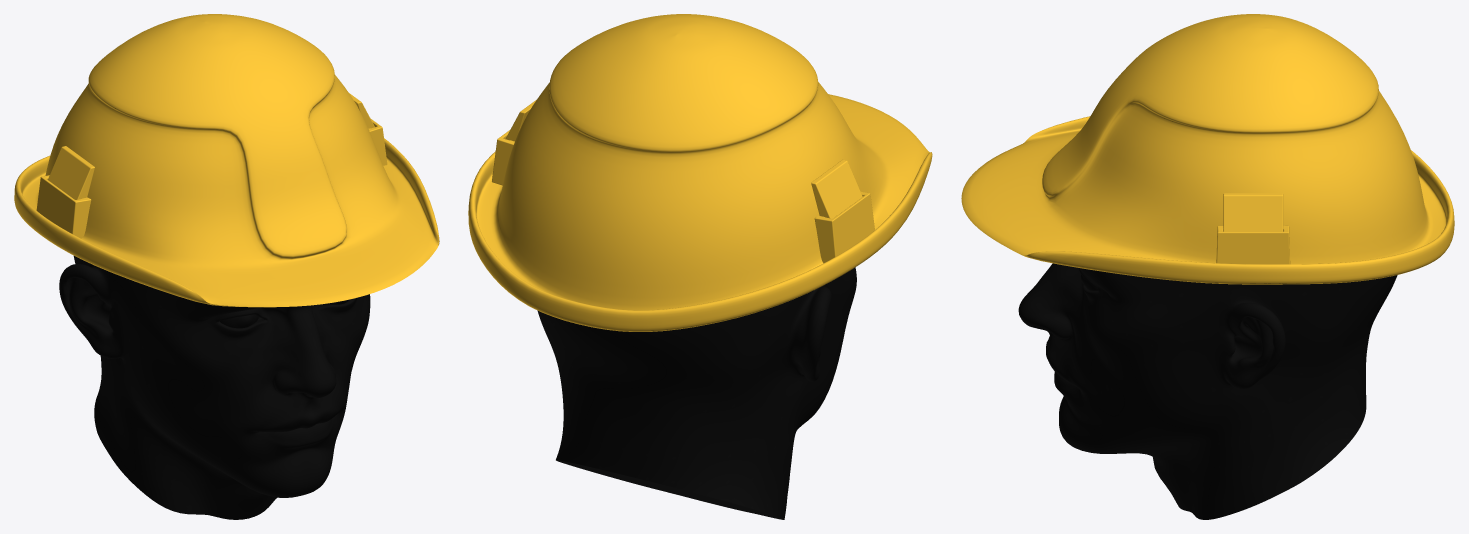
File: helmet.glb
The picture shows the model from 3 angles, left to right: view 1: azimuth 30°, elevation 25°; view 2: azimuth 150°, elevation 25°; view 3: azimuth 270°, elevation 25°; orthographic projection. The views are drawn at different scales.
Visible parts, largest first — view 1: helmet_1, head_0, helmet_side_2; view 2: helmet_1, head_0, helmet_side_2; view 3: helmet_1, head_0, helmet_side_2.
Boxes of the visible parts, box(x1,y1,x2,y2) form: helmet_1: box(14, 14, 439, 307); head_0: box(59, 256, 370, 519); helmet_side_2: box(36, 93, 387, 238); helmet_1: box(468, 14, 932, 331); head_0: box(537, 267, 856, 519); helmet_side_2: box(492, 100, 874, 263); helmet_1: box(961, 14, 1454, 284); head_0: box(1018, 263, 1397, 519); helmet_side_2: box(1216, 193, 1290, 264).
Bounding box in the file's own units: 0.4259 × 0.5534 × 0.5216.
